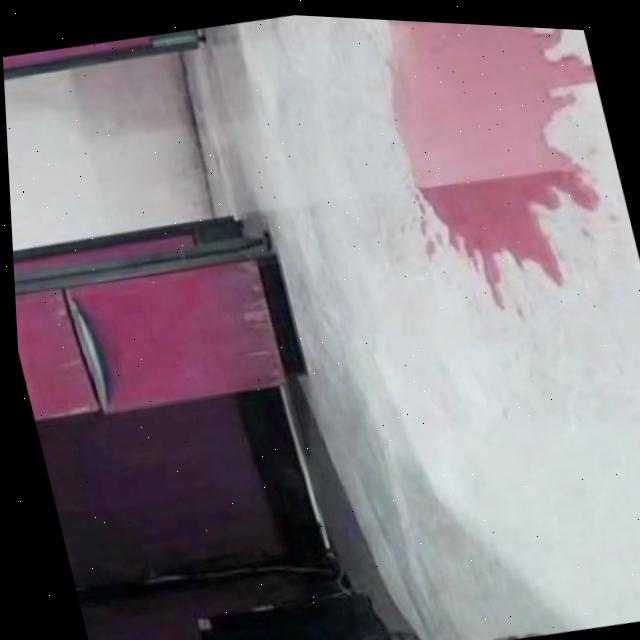spillage: (393, 16, 600, 300)
